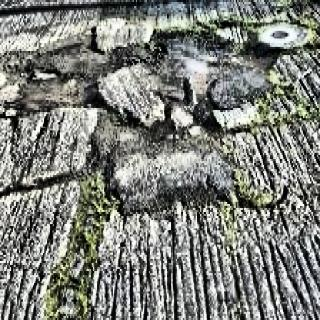alligator-crack: (8, 140, 318, 319)
pothole: (23, 48, 113, 117), (133, 66, 228, 128), (233, 38, 291, 86)
